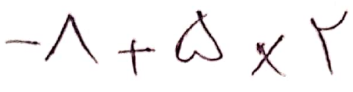character: (44, 12, 97, 63), (175, 10, 223, 63), (309, 11, 347, 76), (250, 34, 287, 77), (118, 38, 155, 77), (3, 38, 43, 49)
